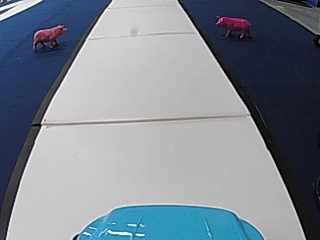pig: (30, 21, 67, 50), (213, 13, 253, 39)
